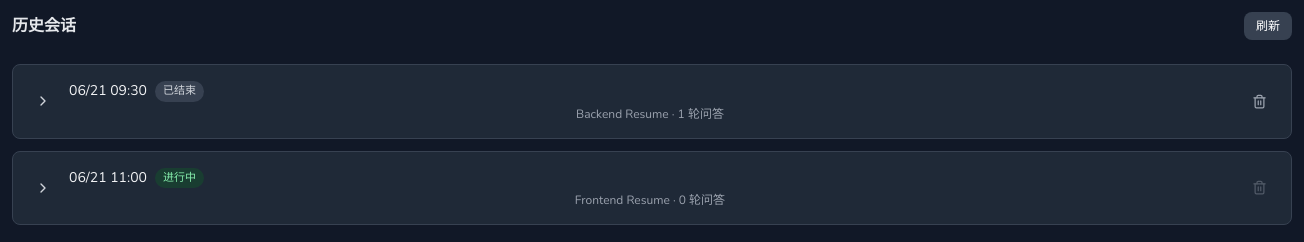
Scenario: TabHistory › confirms and deletes an ended session
Step 1. Click the button named "删除" → {"x": 1259, "y": 101}, box [1243, 85, 1275, 117]
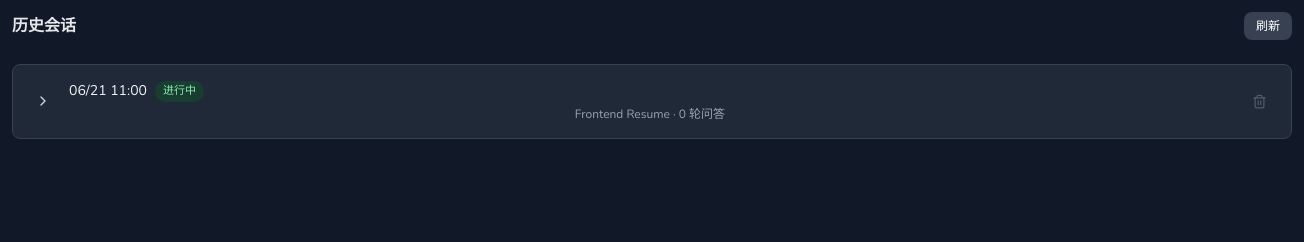
expect the text "Frontend Resume" is shown: met, box [575, 106, 725, 122]
expect the text "Backend Resume" is gone: met
